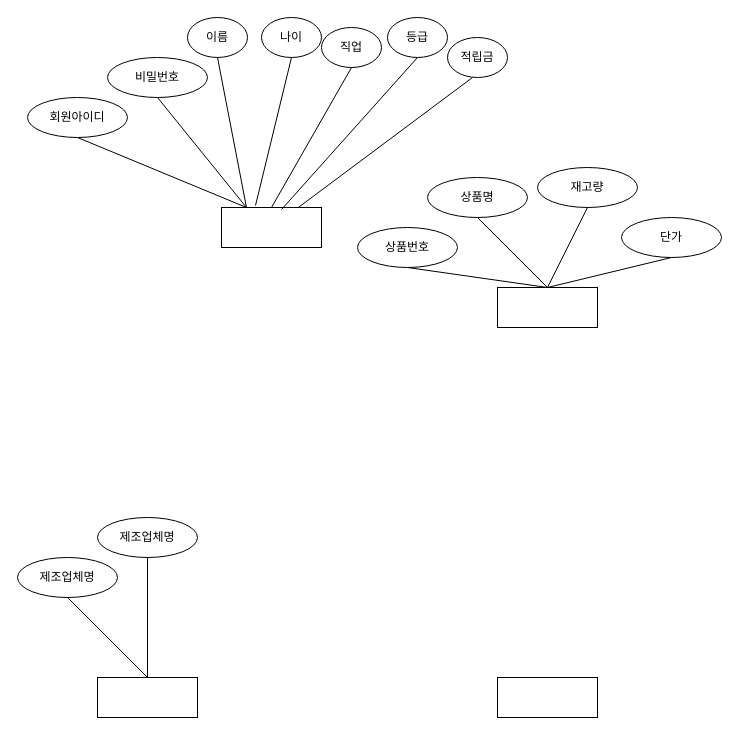
This 739x735 diagram has some shape labels left out. Here are the shapes that lost their labels. From the top down, the centre of each, then its label:
At (x=271, y=227): "회원".
At (x=547, y=307): "상품".
At (x=147, y=697): "제조업체".
At (x=547, y=697): "게시글".
